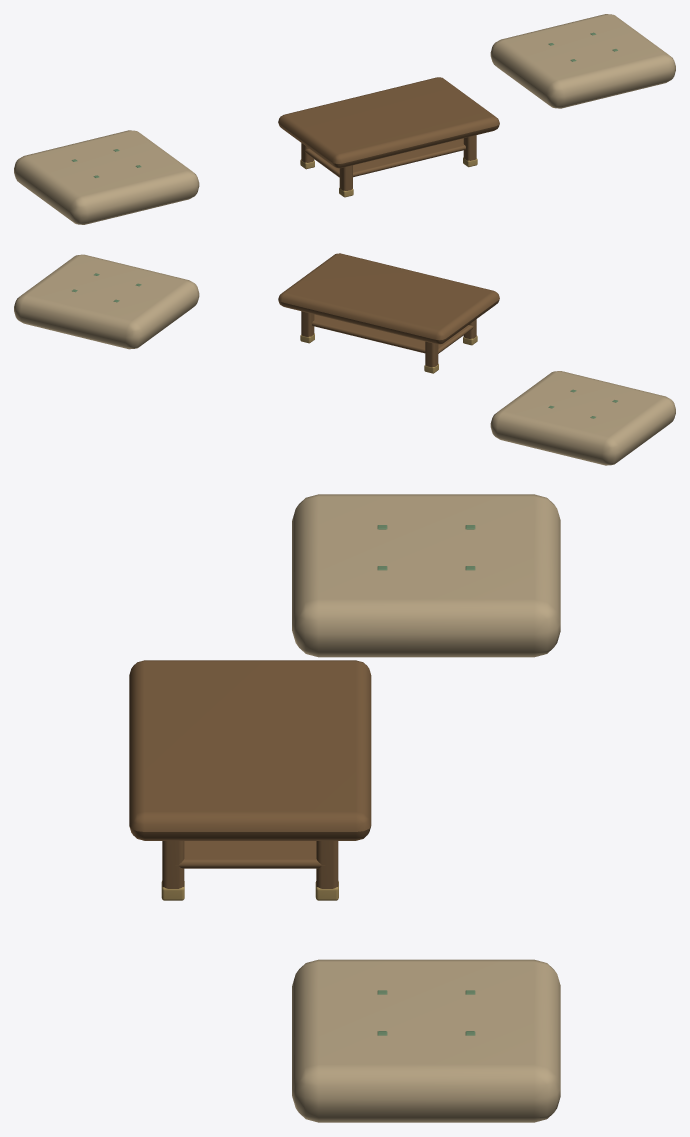
The model's file is veranda_furniture.glb.
3 renders of one model, top to bottom at view 1: azimuth 30°, elevation 25°; view 2: azimuth 150°, elevation 25°; view 3: azimuth 270°, elevation 25°, orthographic. The views are drawn at different scales.
Visible parts, largest first — view 1: Veranda Warm linen, Veranda Oiled walnut; view 2: Veranda Warm linen, Veranda Oiled walnut; view 3: Veranda Warm linen, Veranda Oiled walnut.
Part boxes in pixels (bbox=[...]): Veranda Warm linen: bbox=[14, 14, 675, 224]; Veranda Oiled walnut: bbox=[278, 77, 499, 190]; Veranda Warm linen: bbox=[14, 254, 675, 465]; Veranda Oiled walnut: bbox=[278, 253, 499, 367]; Veranda Warm linen: bbox=[292, 494, 560, 1122]; Veranda Oiled walnut: bbox=[129, 660, 371, 888].
Bounding box in the file's own units: 6.34 × 0.5 × 1.96.
